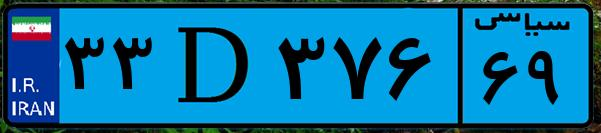3: (270, 28, 330, 110), (57, 26, 110, 100), (110, 28, 158, 98)
6: (385, 28, 445, 110), (475, 38, 525, 113)
7: (330, 28, 385, 110)
9: (525, 38, 570, 115)
D: (158, 12, 270, 120)
